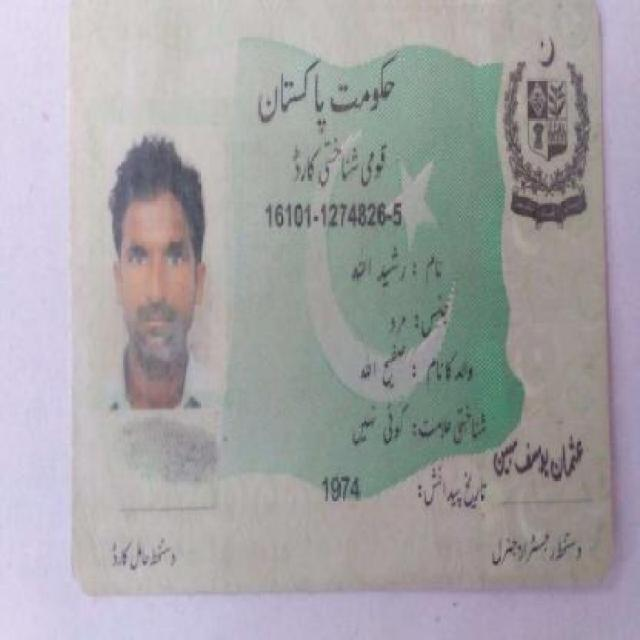Front: (60, 3, 622, 597)
